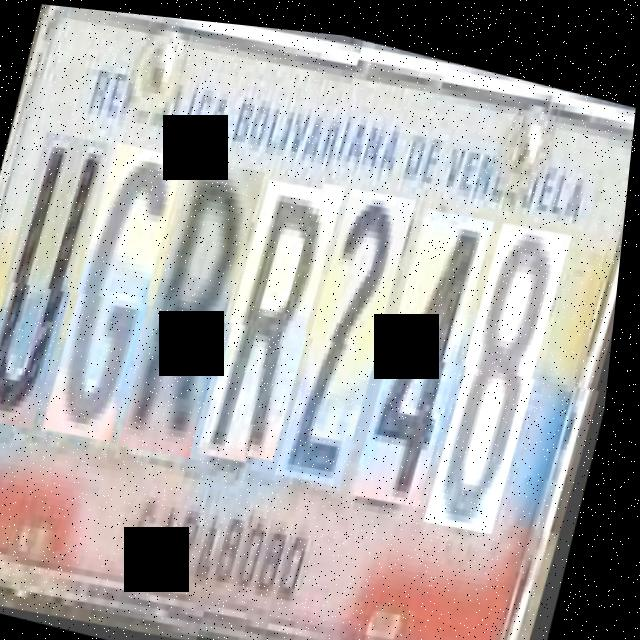2: (284, 184, 422, 498)
4: (360, 204, 501, 519)
8: (432, 217, 576, 545)
G: (51, 136, 192, 452)
R: (129, 150, 273, 466), (207, 169, 350, 473)
U: (0, 125, 116, 437)
